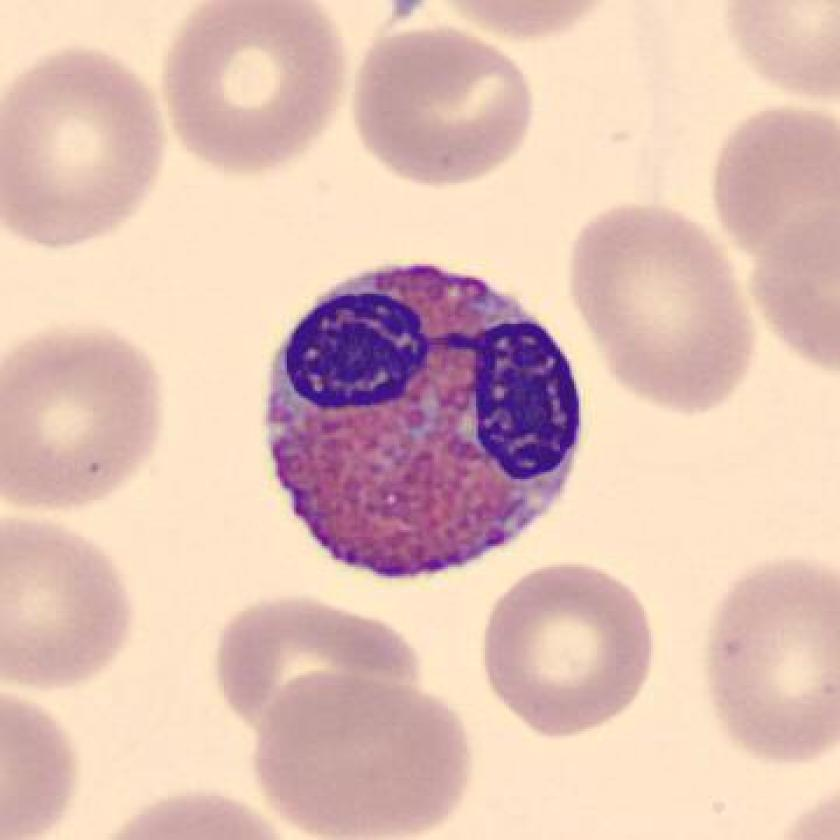eosinophil: (255, 246, 589, 591)
